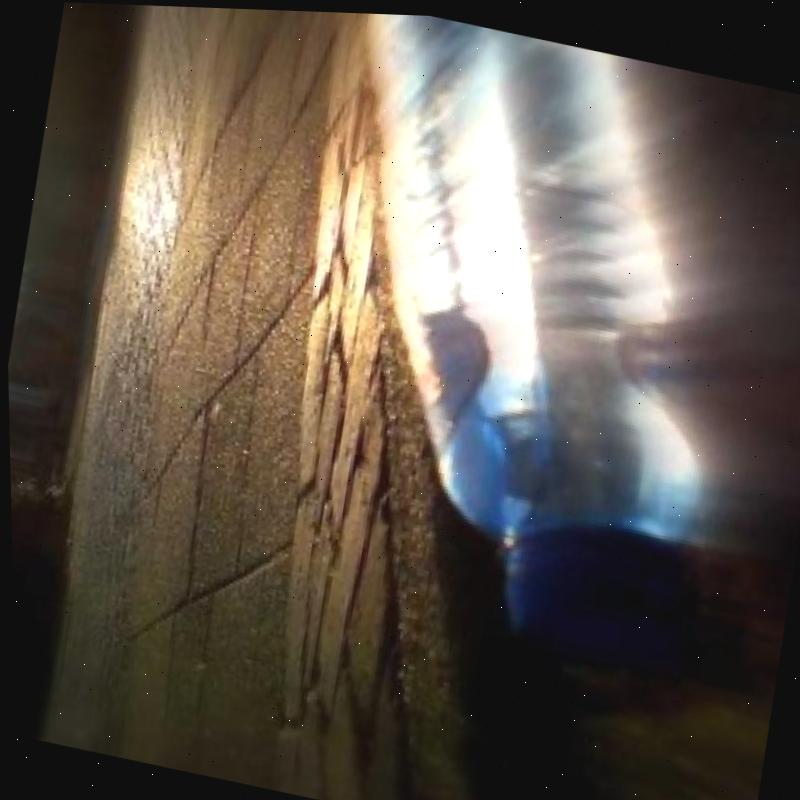botella: (264, 8, 800, 687)
